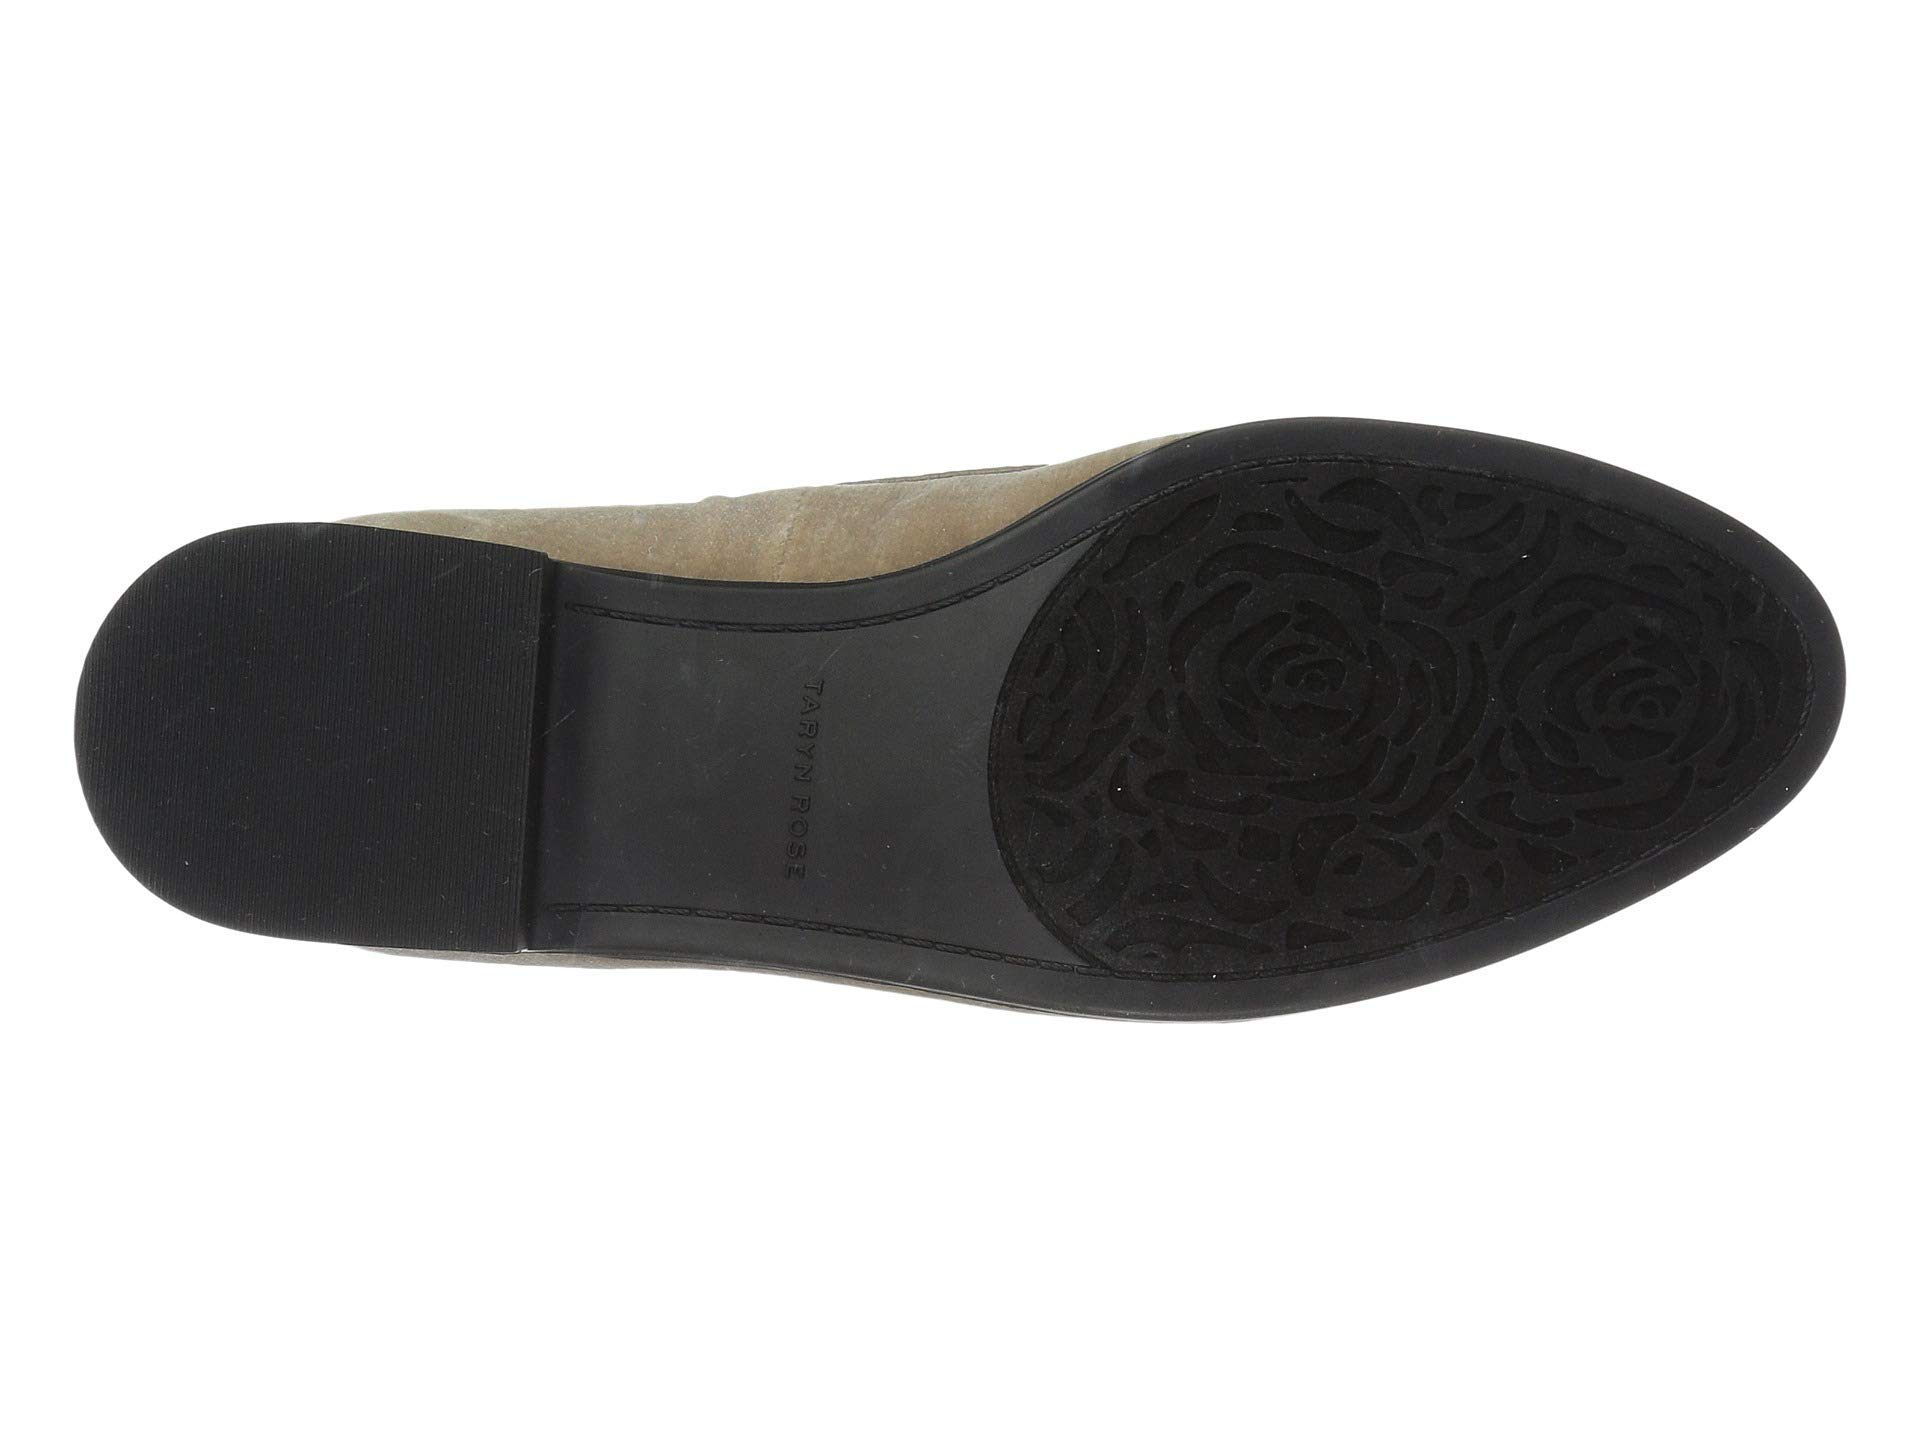circle: (1628, 691, 1668, 738), (1297, 669, 1336, 709)
line: (206, 663, 487, 905)
